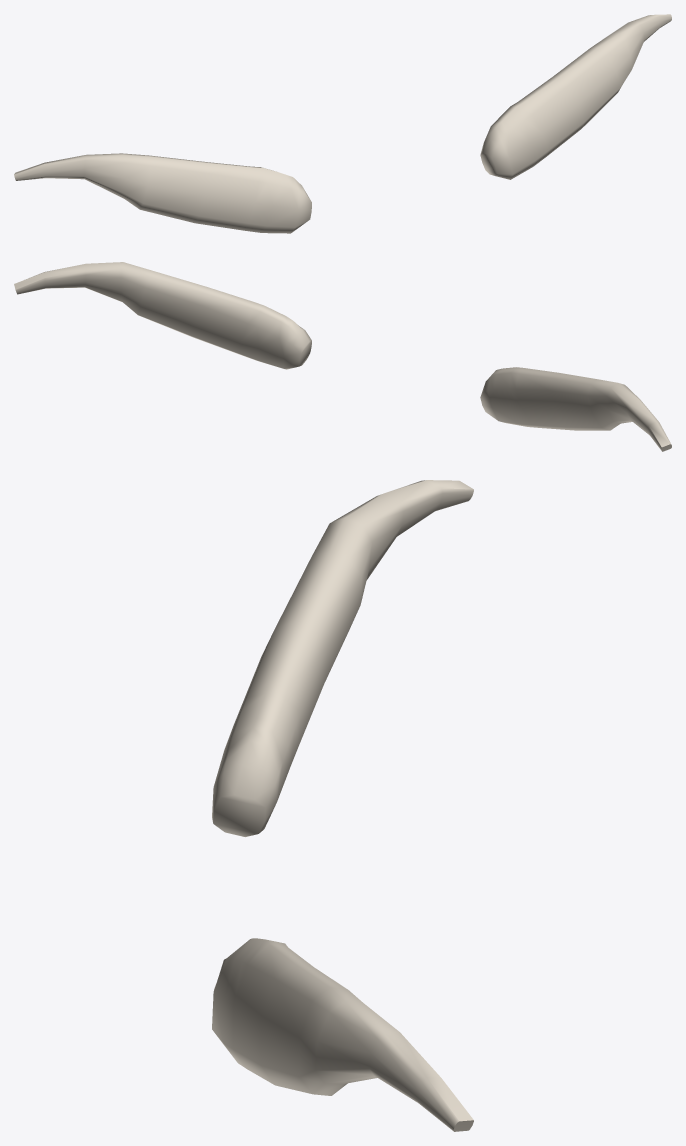
File: Eyebrows_03_07.fbx
The picture shows the model from 3 angles, top to bottom: view 1: azimuth 30°, elevation 25°; view 2: azimuth 150°, elevation 25°; view 3: azimuth 270°, elevation 25°; orthographic projection. The views are drawn at different scales.
Visible parts, largest first — view 1: Eyebrows_03_07; view 2: Eyebrows_03_07; view 3: Eyebrows_03_07.
Boxes of the visible parts, x1,y1,x2,y2 form: Eyebrows_03_07: (14, 14, 671, 233); Eyebrows_03_07: (14, 262, 671, 451); Eyebrows_03_07: (212, 480, 473, 1131).
Size of the model in its own units: 18.82 by 2.52 by 3.25.
